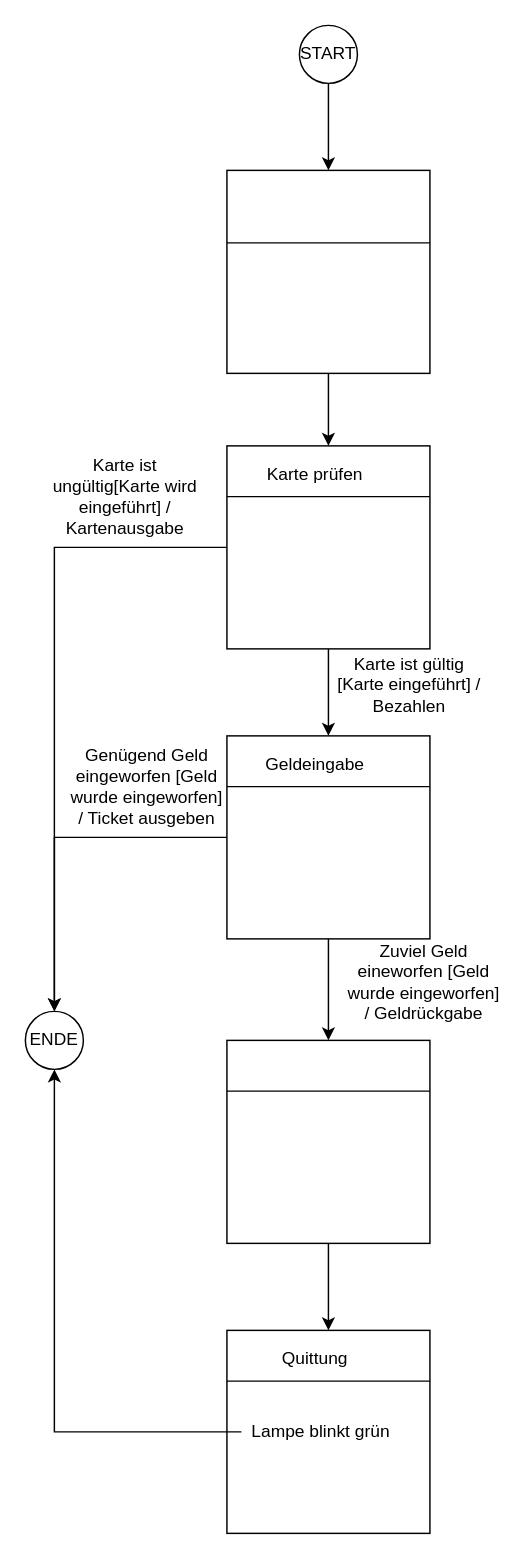
Some shapes in this 529 by 1559 pixel diagram are drawn without their labels. Each missing label, with the centre of its shape:
"Bereit" belongs at point (327, 271).
"Geldwechsel" belongs at point (327, 1141).
